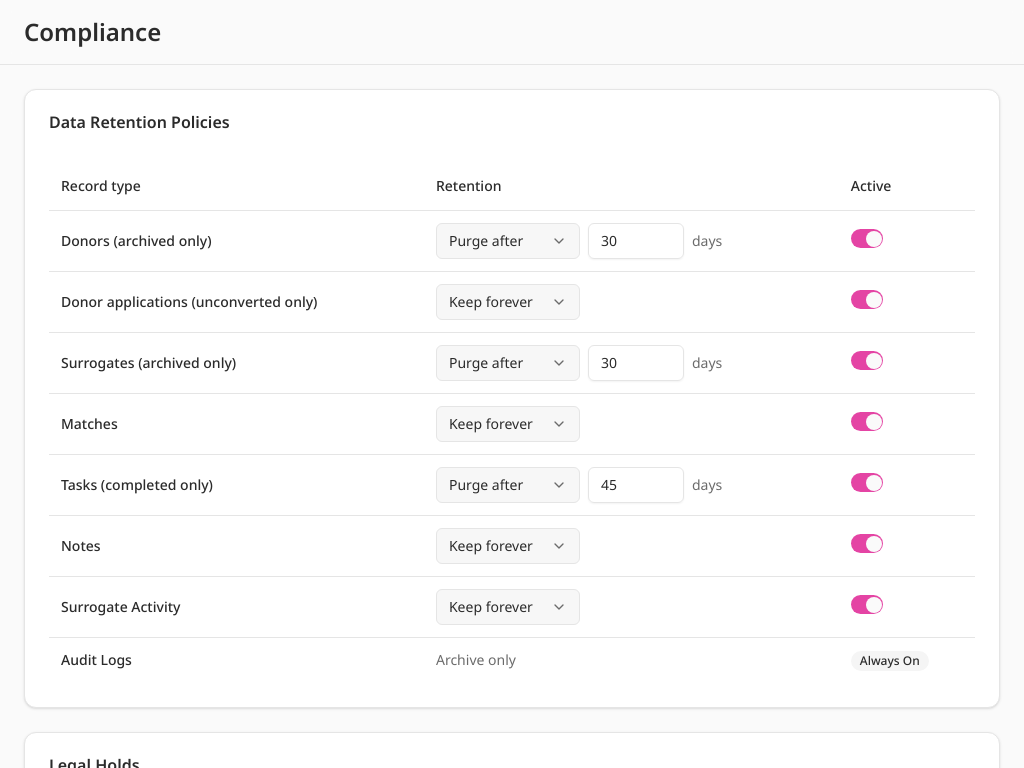
Test: Compliance settings page › shows 0 days as Keep forever and requires 1 or more days to purge
Check: the dropdown named "Matches retention" shows "Keep forever", box [436, 406, 580, 442]
Replace the text in the number field named "Donors (archived only) retention days" with "-5" at point(636, 240), box [588, 222, 684, 258]
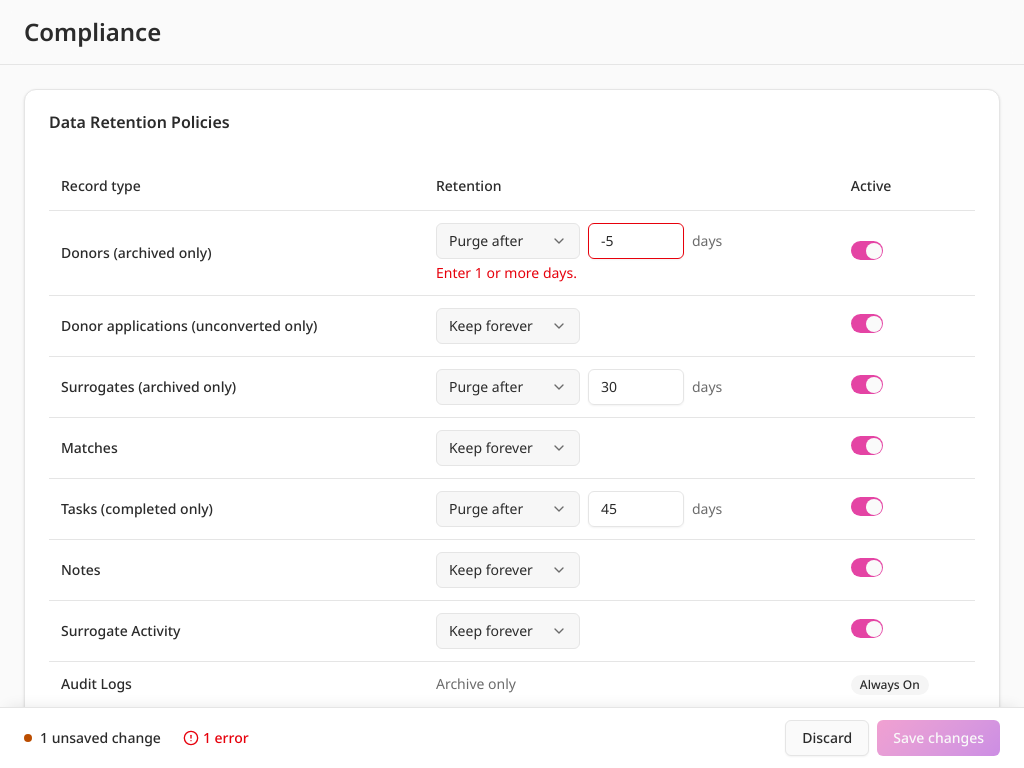
Check: the text "Enter 1 or more days." is shown, box [436, 262, 577, 282]
Check: the button "Save changes" is disabled, box [877, 720, 1000, 756]
